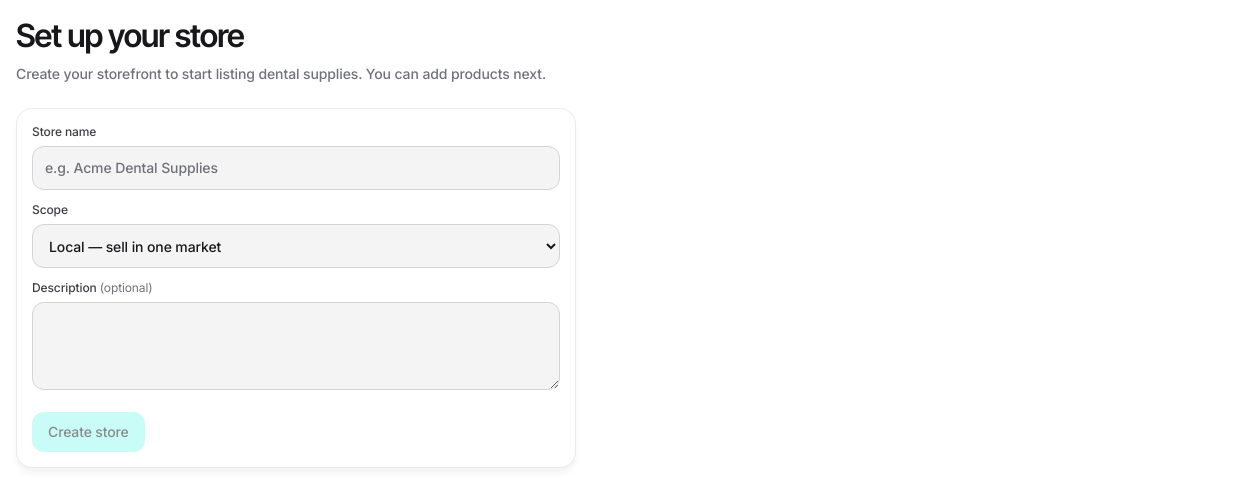
it: SupplierDashboard › creates a store and then shows it
The width and height of the screenshot is (1249, 487).
Type "Acme Dental Supplies" into the field labelled "Store name" at x=296, y=168, box [45,158,547,178]
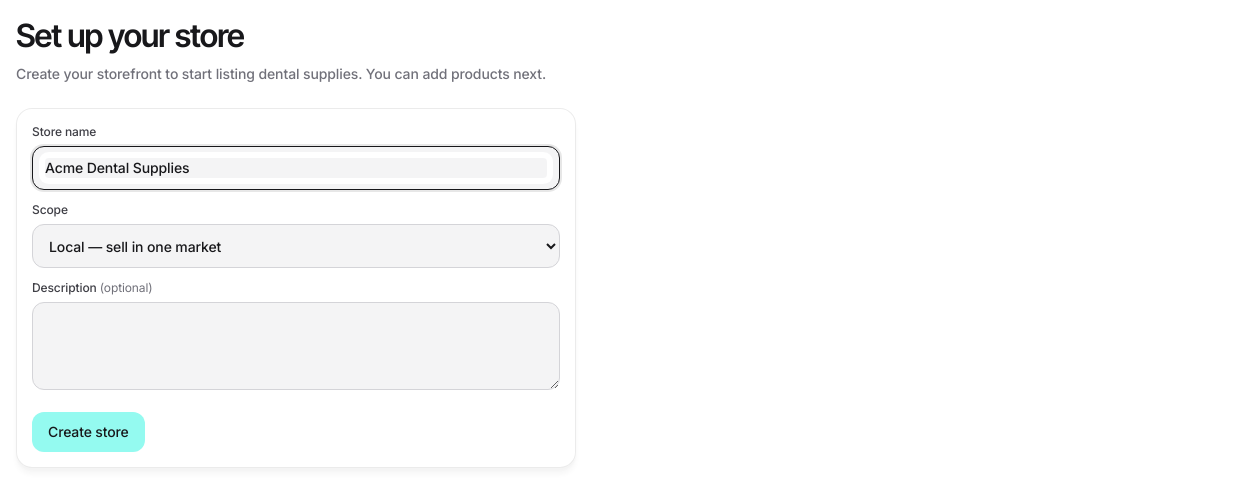
Click the button "Create store" at x=88, y=432, box [32,412,145,452]
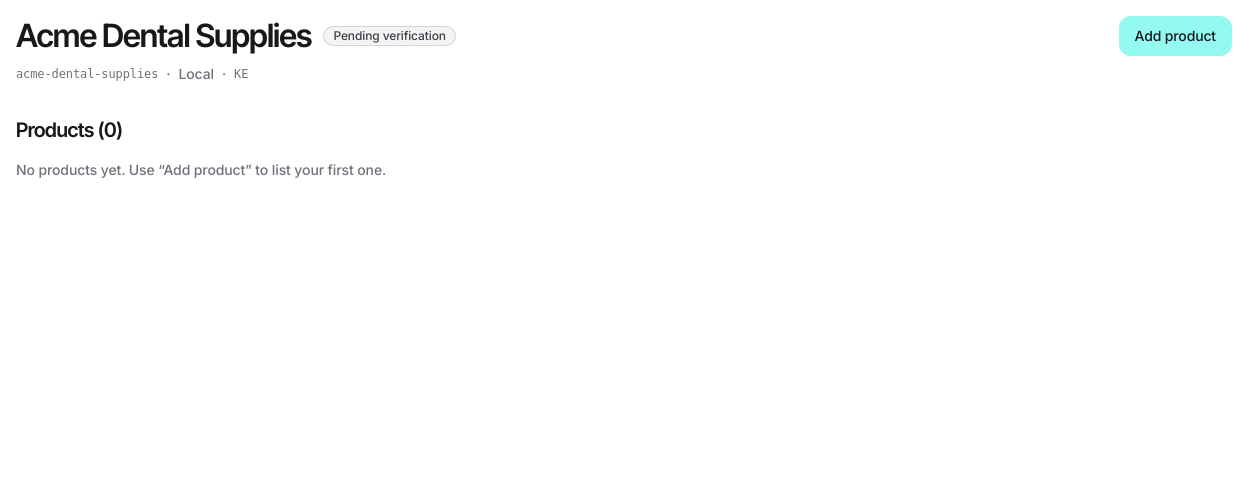
Result: the heading "Acme Dental Supplies" is shown at [16,16,311,56]
